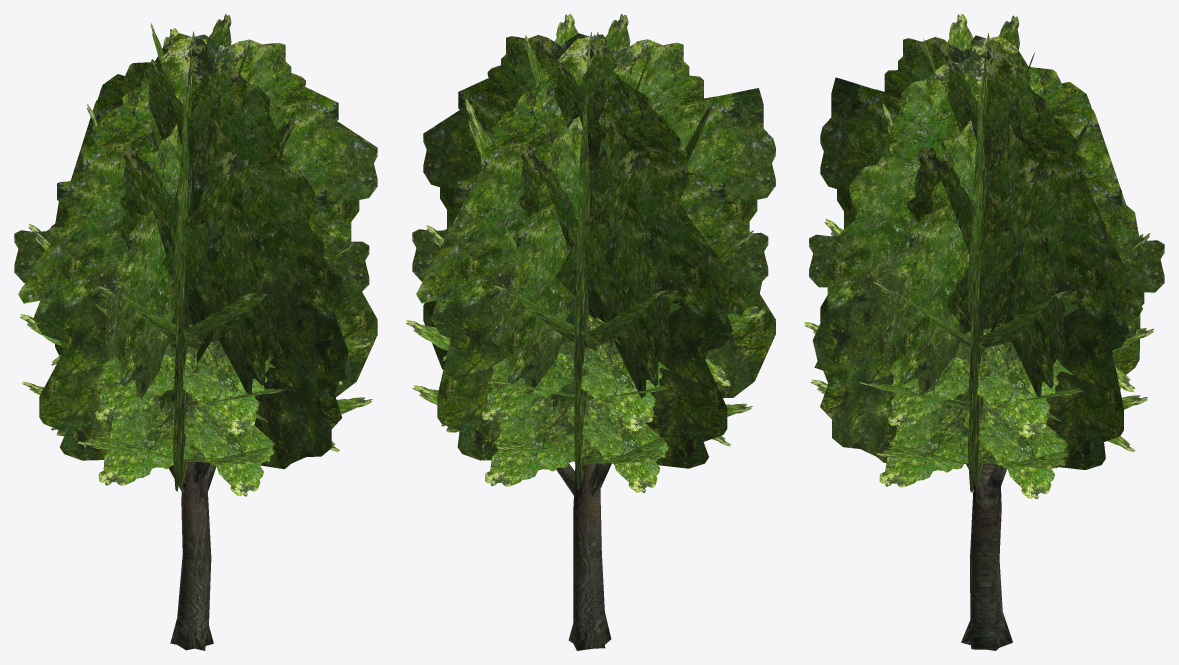
The model's file is treeBoomDobro.obj.
3 views of the same model, side by side, from view 1: azimuth 30°, elevation 25°; view 2: azimuth 150°, elevation 25°; view 3: azimuth 270°, elevation 25° (orthographic).
Parts seen in each view (by area): view 1: Mesh53 boomkroon1 Tree1 Model, Mesh54 boomkroon1 Tree1 Model, Mesh7 boomkroon1 Tree1 Model, Mesh6 boomkroon1 Tree1 Model, Mesh13 boomkroon1 Tree1 Model, Mesh55 Tree1 Model, Mesh52 boomkroon1 Tree1 Model, Mesh41 boomkroon1 Tree1 Model, Mesh37 boomkroon1 Tree1 Model, Mesh43 boomkroon1 Tree1 Model, Mesh24 boomkroon1 Tree1 Model, Mesh5 boomkroon1 Tree1 Model (+9 smaller); view 2: Mesh52 boomkroon1 Tree1 Model, Mesh53 boomkroon1 Tree1 Model, Mesh9 boomkroon1 Tree1 Model, Mesh8 boomkroon1 Tree1 Model, Mesh55 Tree1 Model, Mesh48 boomkroon1 Tree1 Model, Mesh14 boomkroon1 Tree1 Model, Mesh7 boomkroon1 Tree1 Model, Mesh22 boomkroon1 Tree1 Model, Mesh27 boomkroon1 Tree1 Model, Mesh54 boomkroon1 Tree1 Model, Mesh16 boomkroon1 Tree1 Model (+12 smaller); view 3: Mesh52 boomkroon1 Tree1 Model, Mesh54 boomkroon1 Tree1 Model, Mesh5 boomkroon1 Tree1 Model, Mesh25 boomkroon1 Tree1 Model, Mesh10 boomkroon1 Tree1 Model, Mesh55 Tree1 Model, Mesh53 boomkroon1 Tree1 Model, Mesh44 boomkroon1 Tree1 Model, Mesh39 boomkroon1 Tree1 Model, Mesh11 boomkroon1 Tree1 Model, Mesh9 boomkroon1 Tree1 Model, Mesh20 boomkroon1 Tree1 Model (+11 smaller).
Boxes of the visible parts, box(x1,y1,x2,y2) form: Mesh53 boomkroon1 Tree1 Model: box(18, 34, 377, 460); Mesh54 boomkroon1 Tree1 Model: box(50, 33, 348, 469); Mesh7 boomkroon1 Tree1 Model: box(105, 124, 181, 418); Mesh6 boomkroon1 Tree1 Model: box(208, 119, 278, 393); Mesh13 boomkroon1 Tree1 Model: box(120, 144, 232, 325); Mesh55 Tree1 Model: box(170, 461, 213, 650); Mesh52 boomkroon1 Tree1 Model: box(173, 31, 194, 491); Mesh41 boomkroon1 Tree1 Model: box(160, 324, 268, 434); Mesh37 boomkroon1 Tree1 Model: box(98, 394, 200, 485); Mesh43 boomkroon1 Tree1 Model: box(172, 393, 275, 496); Mesh24 boomkroon1 Tree1 Model: box(162, 150, 252, 279); Mesh5 boomkroon1 Tree1 Model: box(281, 154, 369, 330); Mesh52 boomkroon1 Tree1 Model: box(416, 34, 775, 460); Mesh53 boomkroon1 Tree1 Model: box(423, 33, 746, 468); Mesh9 boomkroon1 Tree1 Model: box(491, 116, 582, 416); Mesh8 boomkroon1 Tree1 Model: box(605, 113, 669, 398); Mesh55 Tree1 Model: box(568, 463, 611, 650); Mesh48 boomkroon1 Tree1 Model: box(485, 395, 600, 486); Mesh14 boomkroon1 Tree1 Model: box(518, 144, 625, 322); Mesh7 boomkroon1 Tree1 Model: box(655, 111, 768, 314); Mesh22 boomkroon1 Tree1 Model: box(555, 315, 662, 431); Mesh27 boomkroon1 Tree1 Model: box(555, 149, 652, 314); Mesh54 boomkroon1 Tree1 Model: box(574, 32, 598, 489); Mesh16 boomkroon1 Tree1 Model: box(567, 392, 668, 492); Mesh52 boomkroon1 Tree1 Model: box(820, 35, 1142, 469); Mesh54 boomkroon1 Tree1 Model: box(812, 36, 1140, 462); Mesh5 boomkroon1 Tree1 Model: box(882, 120, 976, 417); Mesh25 boomkroon1 Tree1 Model: box(946, 159, 1063, 331); Mesh10 boomkroon1 Tree1 Model: box(1002, 123, 1064, 396); Mesh55 Tree1 Model: box(961, 463, 1012, 650); Mesh53 boomkroon1 Tree1 Model: box(968, 33, 989, 492); Mesh44 boomkroon1 Tree1 Model: box(951, 327, 1059, 437); Mesh39 boomkroon1 Tree1 Model: box(879, 403, 991, 487); Mesh11 boomkroon1 Tree1 Model: box(964, 398, 1067, 498); Mesh9 boomkroon1 Tree1 Model: box(1055, 115, 1164, 337); Mesh20 boomkroon1 Tree1 Model: box(906, 146, 988, 252).
Bounding box in the file's own units: 6.93 × 11.91 × 6.35.
2 materials, 2 textured.
